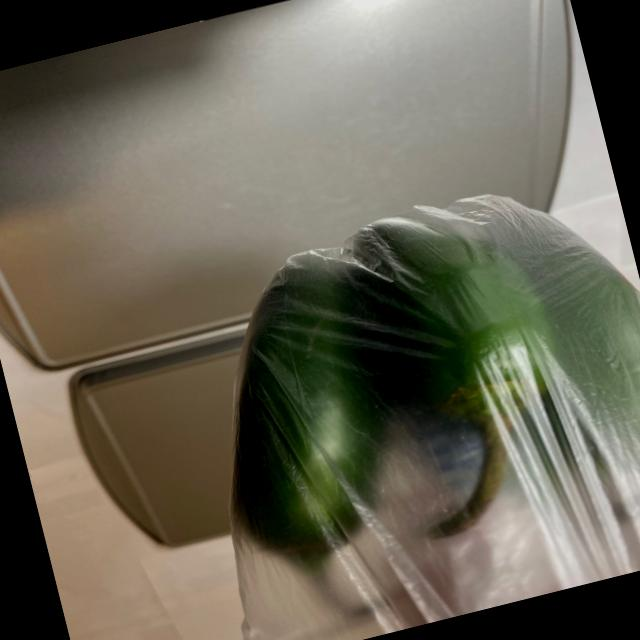chilli: (173, 158, 640, 640)
